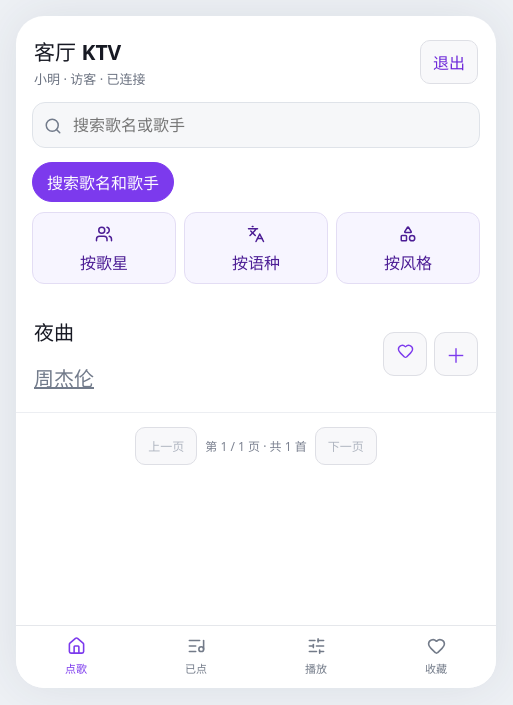
Test: mobile application shell › translates the server-side guest queue limit
Check: the button "夜曲" is shown, box [34,309,78,353]
Step 1. Click the button named "点播 夜曲" → [456, 354], box [434,332,478,376]
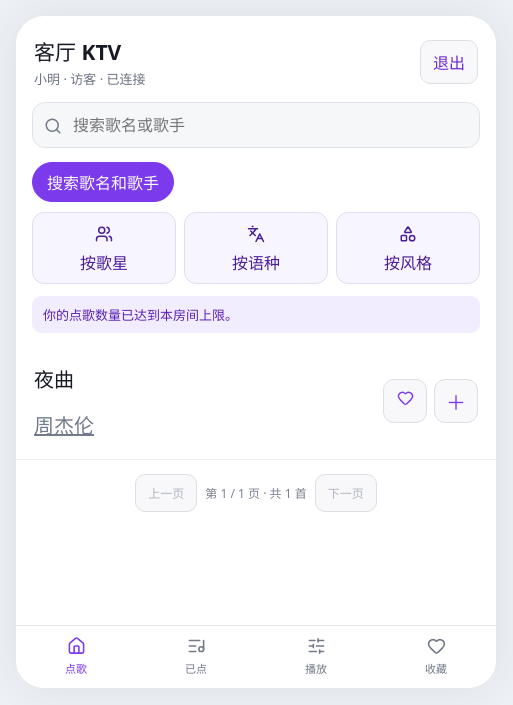
Check: the message shows "点歌数量已达到本房间上限", box [43,306,238,324]
